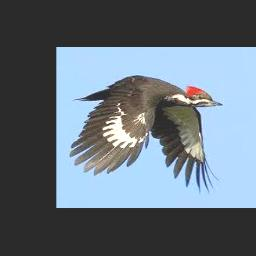Woodpecker: (70, 75, 222, 196)
